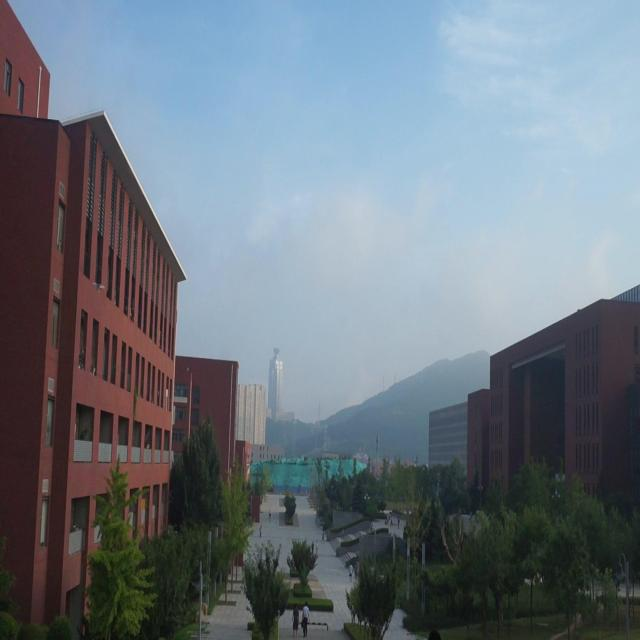drone: (92, 274, 107, 302)
